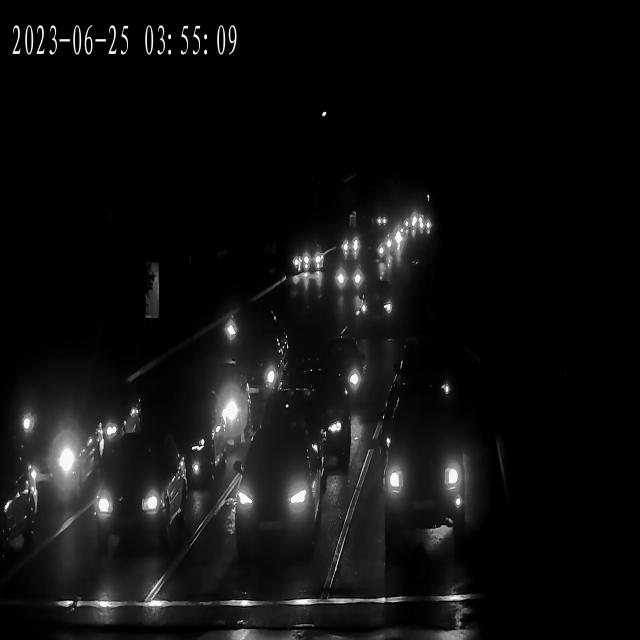Car: (92, 434, 186, 558), (231, 437, 322, 560), (2, 410, 103, 518), (378, 412, 468, 523), (187, 364, 254, 455), (282, 388, 356, 468), (232, 307, 284, 399), (0, 447, 39, 568), (310, 345, 369, 407), (354, 287, 396, 330), (330, 264, 365, 294), (356, 238, 392, 264), (368, 234, 392, 259), (337, 237, 362, 259), (371, 238, 394, 261), (297, 255, 323, 274), (378, 232, 404, 250), (300, 252, 325, 270), (382, 231, 406, 248), (396, 222, 415, 236), (398, 219, 418, 232), (415, 220, 433, 233), (396, 220, 414, 233), (374, 215, 390, 227)
